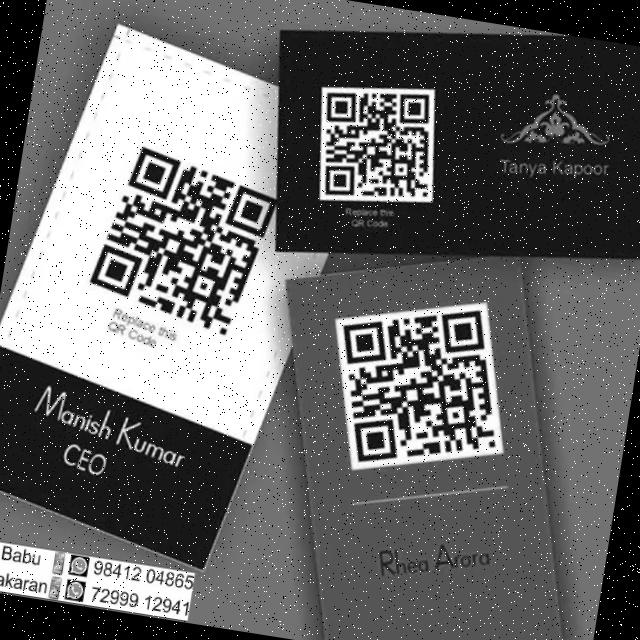QR-codes: (313, 280, 526, 491), (80, 139, 284, 359), (304, 72, 452, 216)
